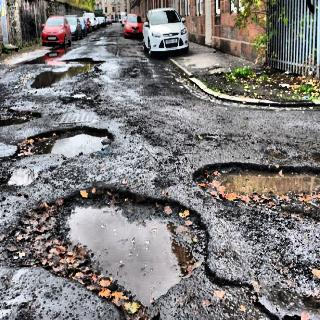pothole: (46, 182, 212, 314), (186, 157, 320, 212), (18, 122, 117, 164), (31, 53, 106, 97)
